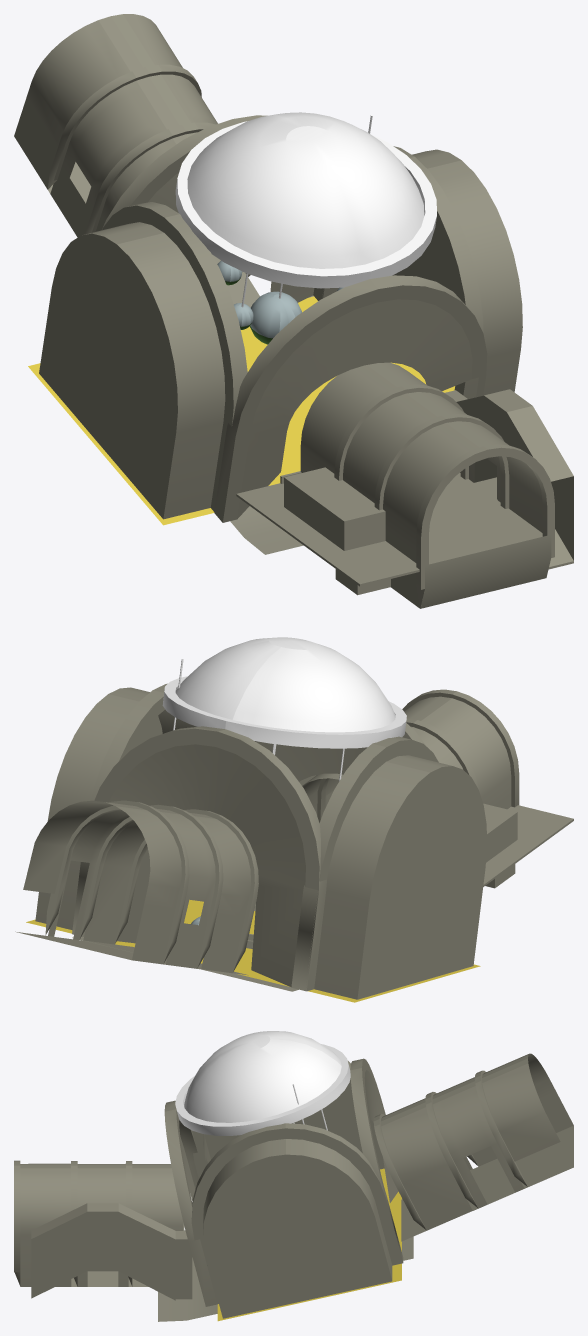
Rendered from RoomTest1.2.fbx.
The picture shows the model from 3 angles, top to bottom: view 1: azimuth 30°, elevation 25°; view 2: azimuth 150°, elevation 25°; view 3: azimuth 270°, elevation 25°; orthographic projection. The views are drawn at different scales.
Visible parts, largest first — view 1: Cube.004; view 2: Cube.004; view 3: Cube.004.
Boxes of the visible parts, box(x1,y1,x2,y2) form: Cube.004: box(14, 14, 573, 608); Cube.004: box(15, 637, 573, 1002); Cube.004: box(14, 1031, 573, 1321).
Bounding box in the file's own units: 5089 × 4677 × 10276.
